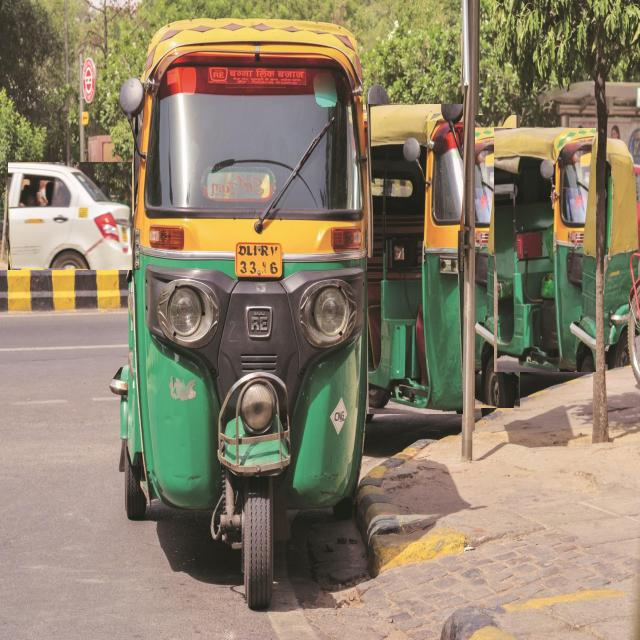autorickshaw: (111, 19, 371, 609), (368, 104, 463, 414), (494, 129, 596, 372), (475, 115, 520, 408), (604, 140, 638, 368)
car: (8, 163, 132, 270)
